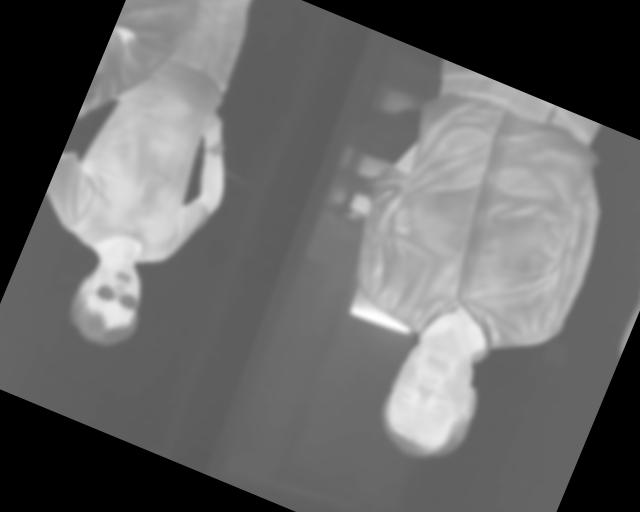face: (367, 322, 499, 475), (59, 243, 160, 356)
